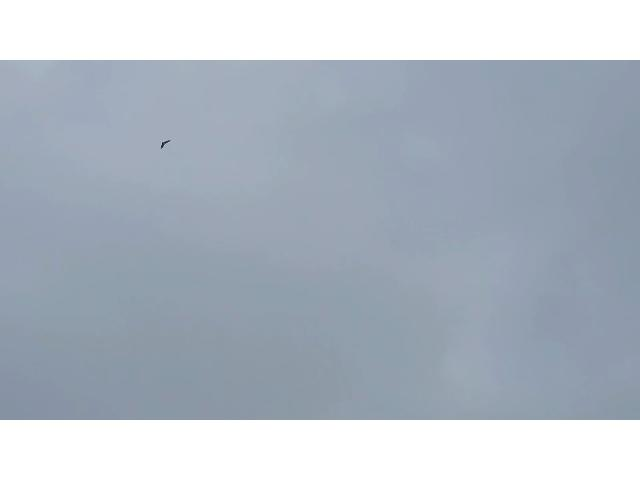Anti-Drone: (160, 140, 172, 150)
